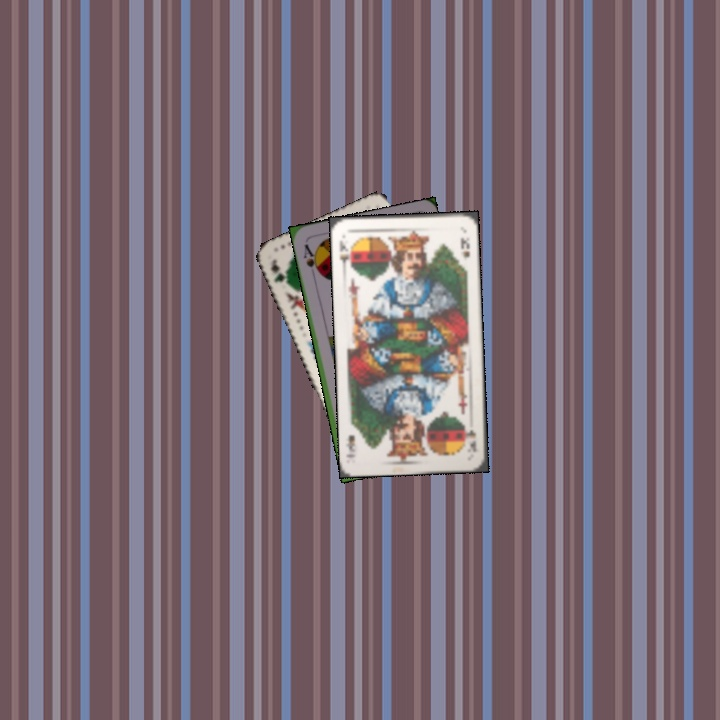GK: (267, 255, 291, 290)
SA: (299, 240, 322, 278)
SK: (335, 236, 354, 272), (462, 420, 479, 454)
